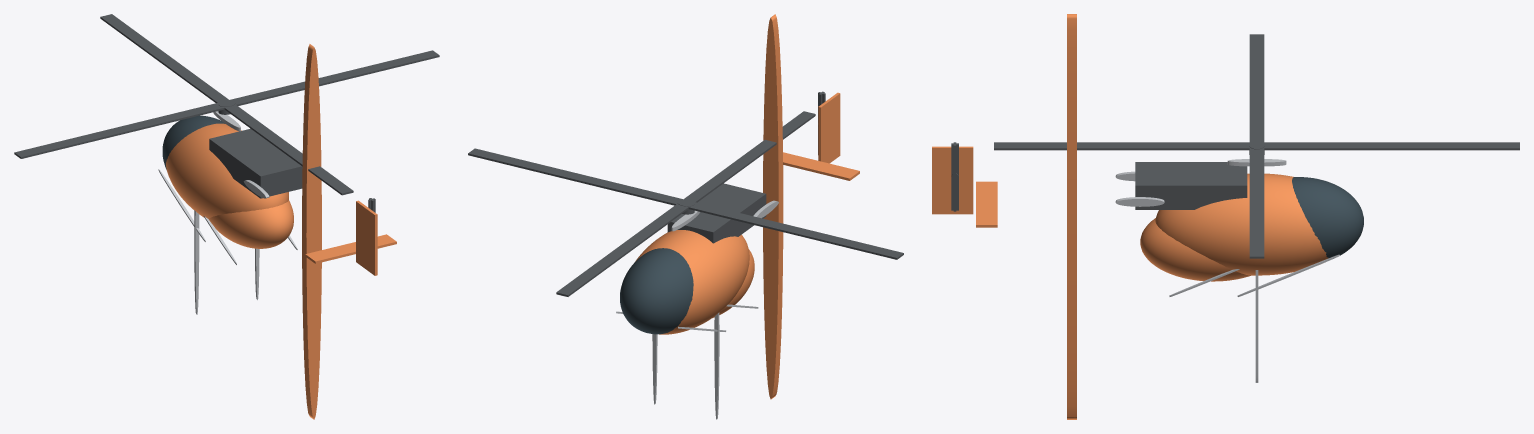
File: helicopter.glb
The picture shows the model from 3 angles, left to right: view 1: azimuth 30°, elevation 25°; view 2: azimuth 150°, elevation 25°; view 3: azimuth 270°, elevation 25°; orthographic projection. The views are drawn at different scales.
Visible parts, largest first — view 1: ROTOR, HELI_BOOM, HELI_BODY, HELI_DECK, HELI_BELLY, HELI_FIN, HELI_CANOPY, HELI_STAB, HELI_SKID_R; view 2: ROTOR, HELI_BOOM, HELI_BODY, HELI_CANOPY, HELI_DECK, HELI_FIN, HELI_STAB, HELI_SKID_R, HELI_BELLY; view 3: HELI_BODY, ROTOR, HELI_DECK, HELI_BOOM, HELI_CANOPY, HELI_BELLY, HELI_FIN, HELI_STAB, TAIL_ROTOR.
Boxes of the visible parts, x1,y1,x2,y2 form: ROTOR: [14, 14, 439, 195]; HELI_BOOM: [302, 44, 321, 419]; HELI_BODY: [166, 123, 288, 218]; HELI_DECK: [209, 128, 302, 198]; HELI_BELLY: [208, 200, 293, 248]; HELI_FIN: [356, 200, 377, 275]; HELI_CANOPY: [162, 115, 224, 169]; HELI_STAB: [305, 234, 396, 263]; HELI_SKID_R: [194, 210, 199, 314]; ROTOR: [468, 111, 903, 296]; HELI_BOOM: [763, 14, 783, 399]; HELI_BODY: [635, 230, 749, 334]; HELI_CANOPY: [620, 248, 693, 334]; HELI_DECK: [667, 183, 766, 243]; HELI_FIN: [818, 92, 840, 163]; HELI_STAB: [783, 152, 859, 180]; HELI_SKID_R: [714, 312, 719, 419]; HELI_BELLY: [712, 249, 754, 318]; HELI_BODY: [1155, 173, 1328, 275]; ROTOR: [994, 34, 1519, 258]; HELI_DECK: [1135, 162, 1247, 209]; HELI_BOOM: [1067, 14, 1076, 419]; HELI_CANOPY: [1292, 177, 1363, 258]; HELI_BELLY: [1140, 218, 1251, 281]; HELI_FIN: [932, 146, 973, 214]; HELI_STAB: [976, 181, 997, 227]; TAIL_ROTOR: [951, 142, 958, 211].
Bounding box in the file's own units: 10.8 × 9.2 × 12.08.
